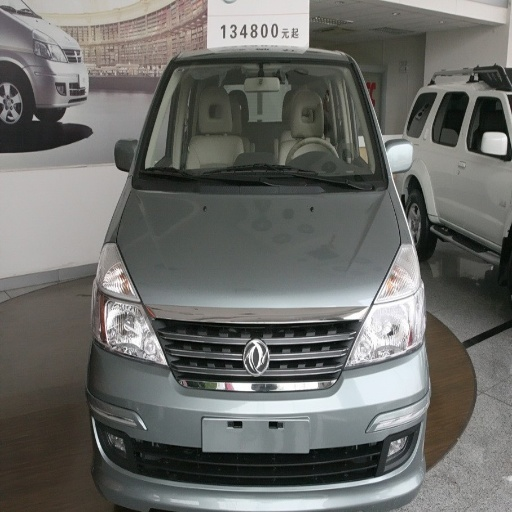front_bumper: (91, 306, 422, 511)
front_right_light: (97, 243, 163, 365)
hood: (116, 178, 407, 375)
